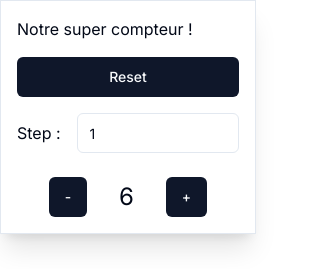
it: Le composant Counter est initialisé avec une valeur maximum de 10 (maxValue) et une valeur initiale de 6 › Si on clique 4 fois sur le bouton increment, le bouton '+' doit être 'disabled', car on a atteint la valeur maximum
Click the button "+": (186, 197) x1=166 y1=177 x2=207 y2=217
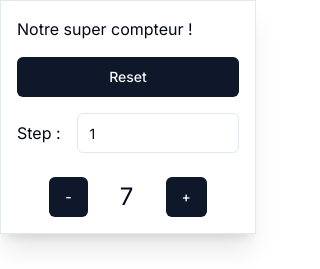
Click the button "+": (186, 197) x1=166 y1=177 x2=207 y2=217
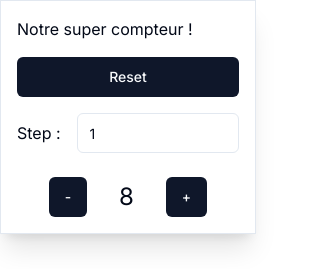
Click the button "+": (186, 197) x1=166 y1=177 x2=207 y2=217
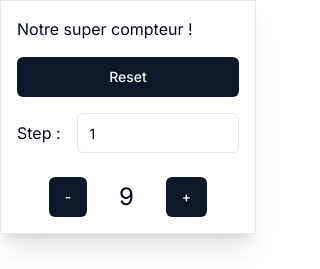
Click the button "+": (186, 197) x1=166 y1=177 x2=207 y2=217
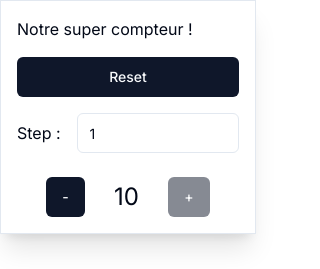
Result: the button "+" is disabled at x1=168 y1=177 x2=210 y2=217
